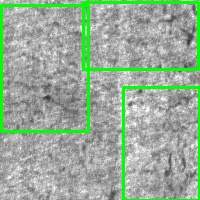crazing: (1, 5, 88, 131), (123, 87, 199, 200), (83, 2, 198, 69)
